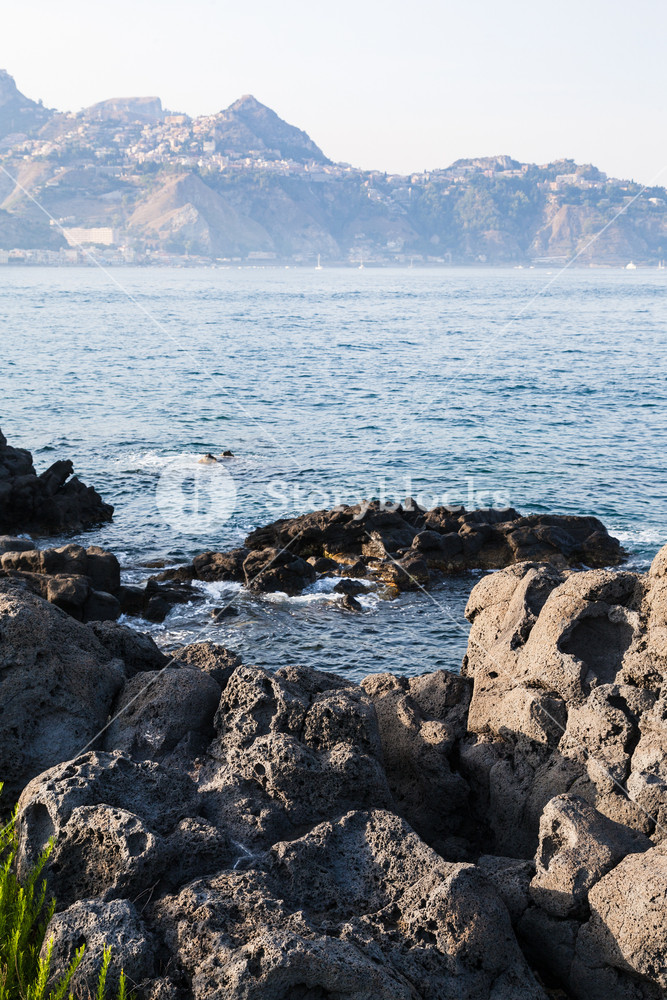volcanic_rock: (163, 803, 529, 1000), (468, 567, 667, 831), (15, 752, 236, 890), (1, 589, 127, 777), (225, 673, 370, 775), (534, 799, 640, 926), (583, 847, 667, 984)
